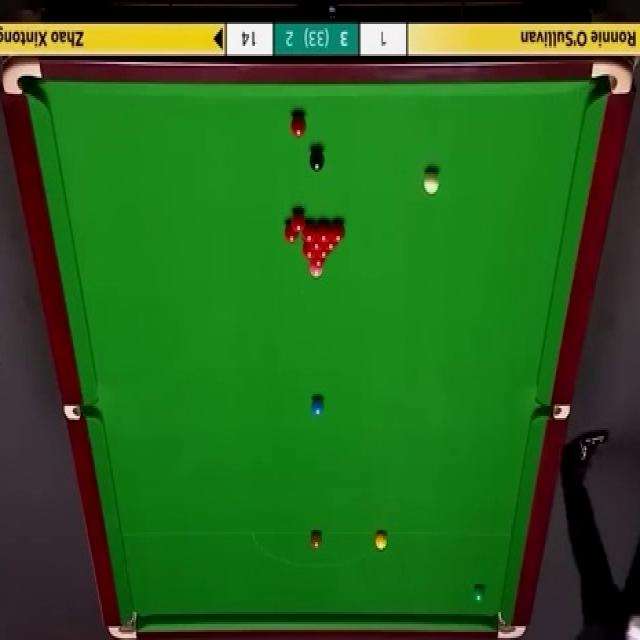black-ball: (310, 146, 325, 173)
blue-ball: (311, 394, 326, 417)
brown-ball: (310, 530, 323, 552)
green-ball: (472, 584, 486, 603)
pink-ball: (309, 264, 323, 280)
red-ball: (290, 111, 306, 140), (283, 219, 298, 245), (290, 210, 306, 234), (302, 219, 316, 243), (332, 219, 345, 242), (318, 220, 331, 243), (302, 245, 316, 260), (315, 250, 331, 261), (308, 242, 324, 252), (323, 243, 338, 253), (309, 258, 325, 267)
white-ball: (423, 167, 441, 195)
yellow-ball: (374, 530, 388, 552)
